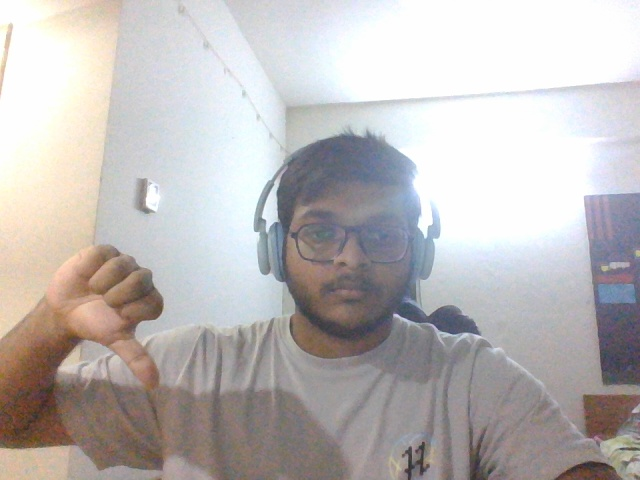ThumbsDown: (44, 243, 165, 391)
